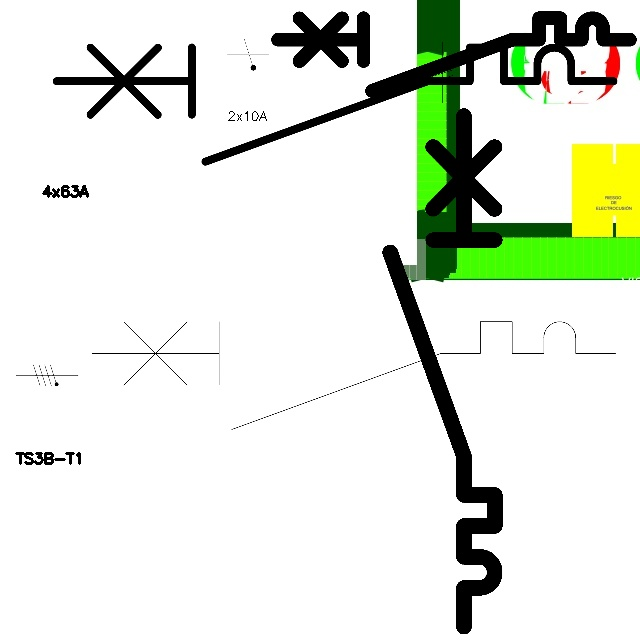interruptor_termomagnetico: (42, 33, 628, 176), (78, 308, 628, 442), (377, 102, 508, 639), (268, 9, 638, 99)
